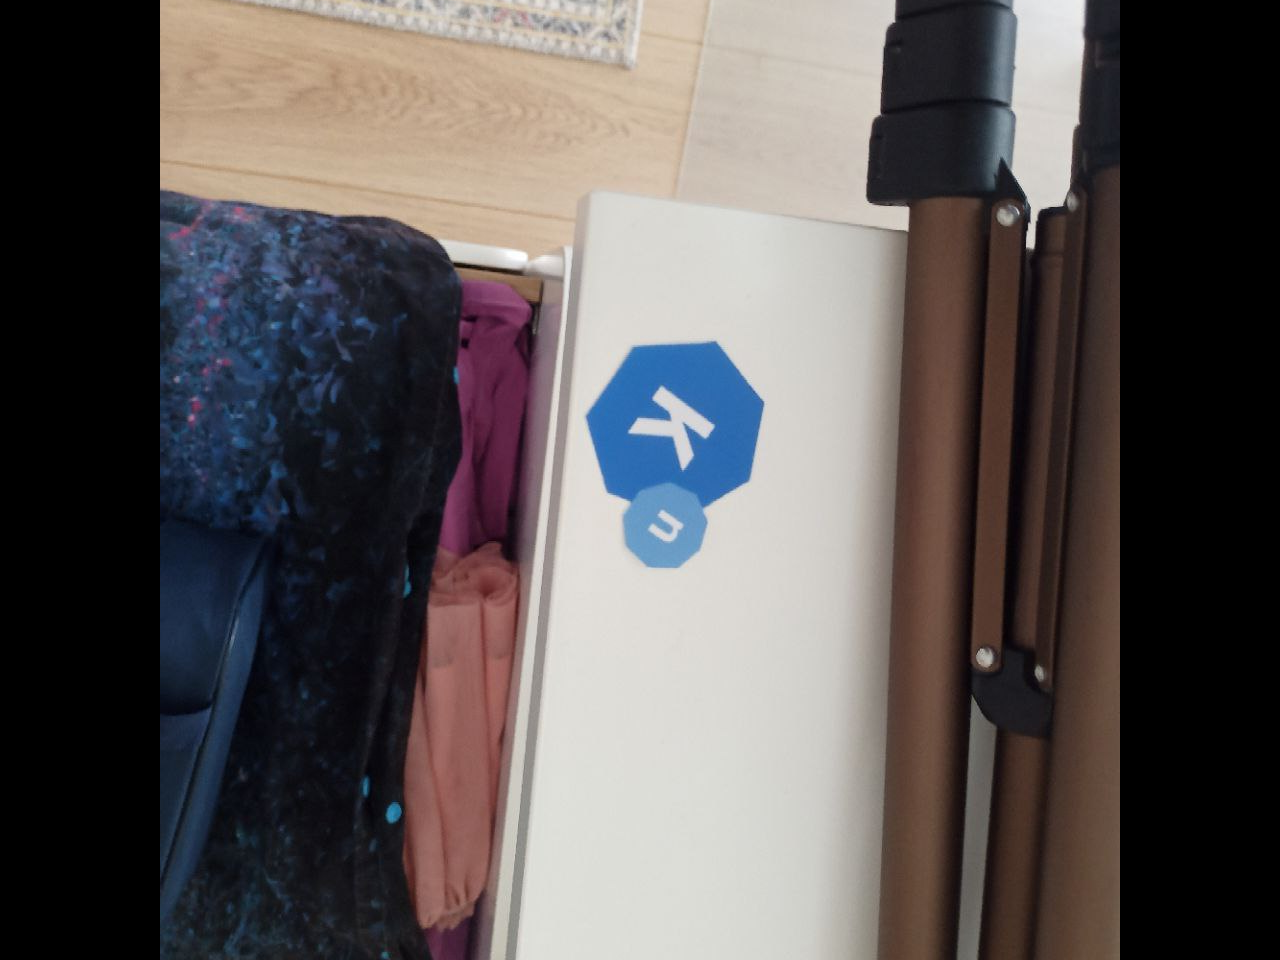knative: (583, 338, 766, 572)
